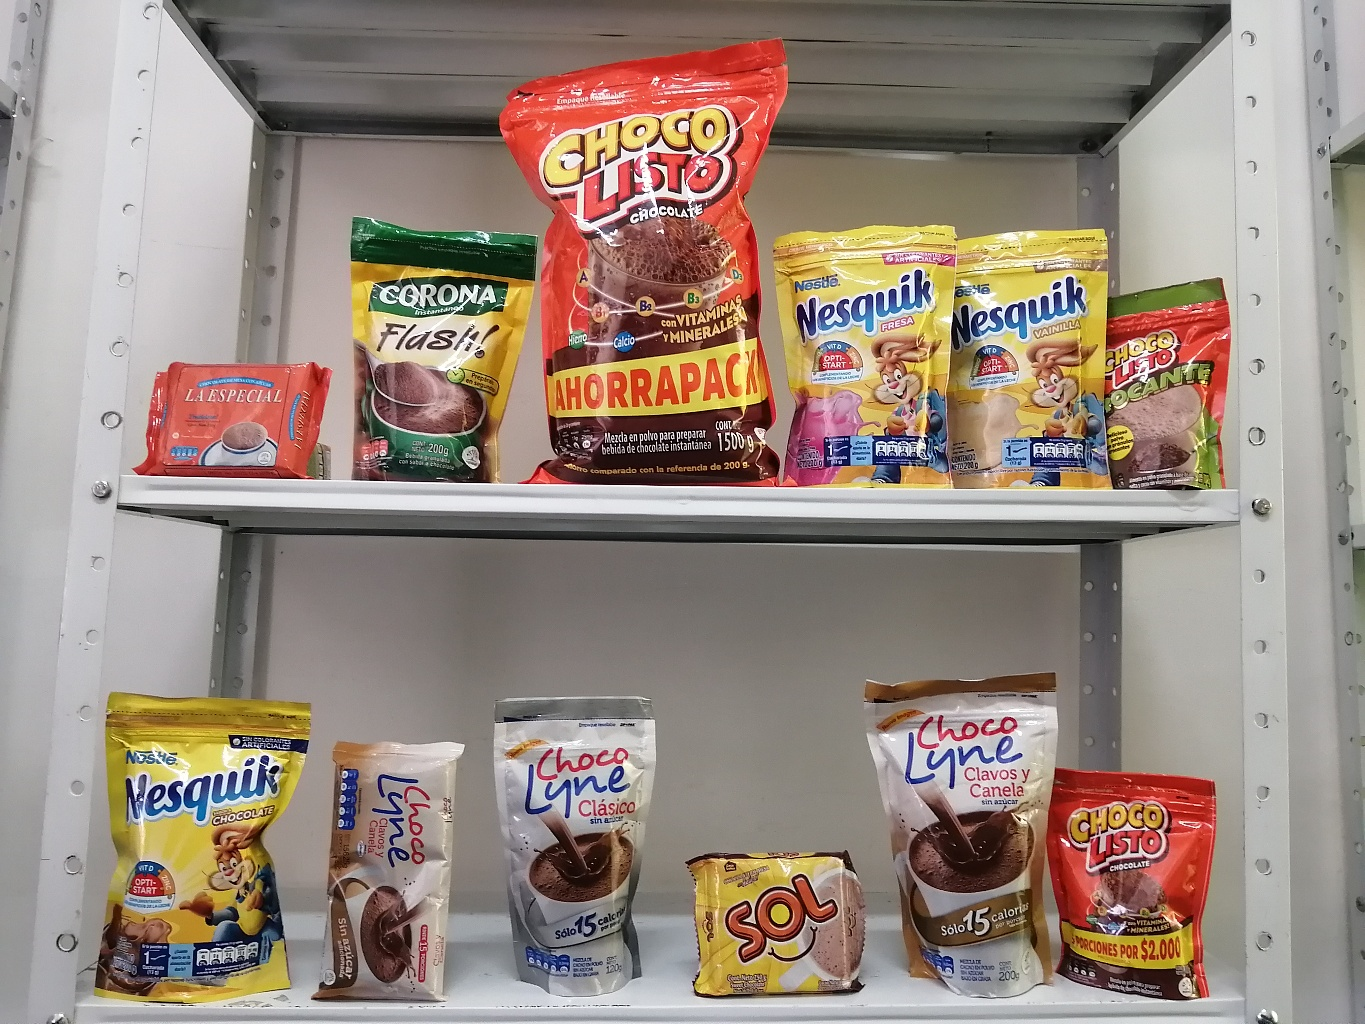COL0170102DYP10000: (1081, 268, 1266, 506)
COL0170103DYP1,500: (483, 22, 816, 501)
COL0170103DYP10000: (1034, 759, 1224, 1000)
COL0170303DYP20000: (60, 662, 309, 1013)
COL0170305DYP20000: (751, 219, 978, 501)
COL0170306DYP20000: (911, 200, 1144, 503)
